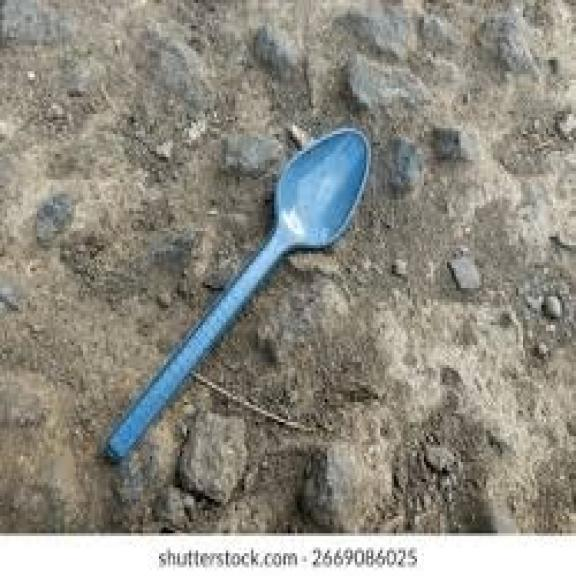Plastik: (106, 129, 370, 461)
